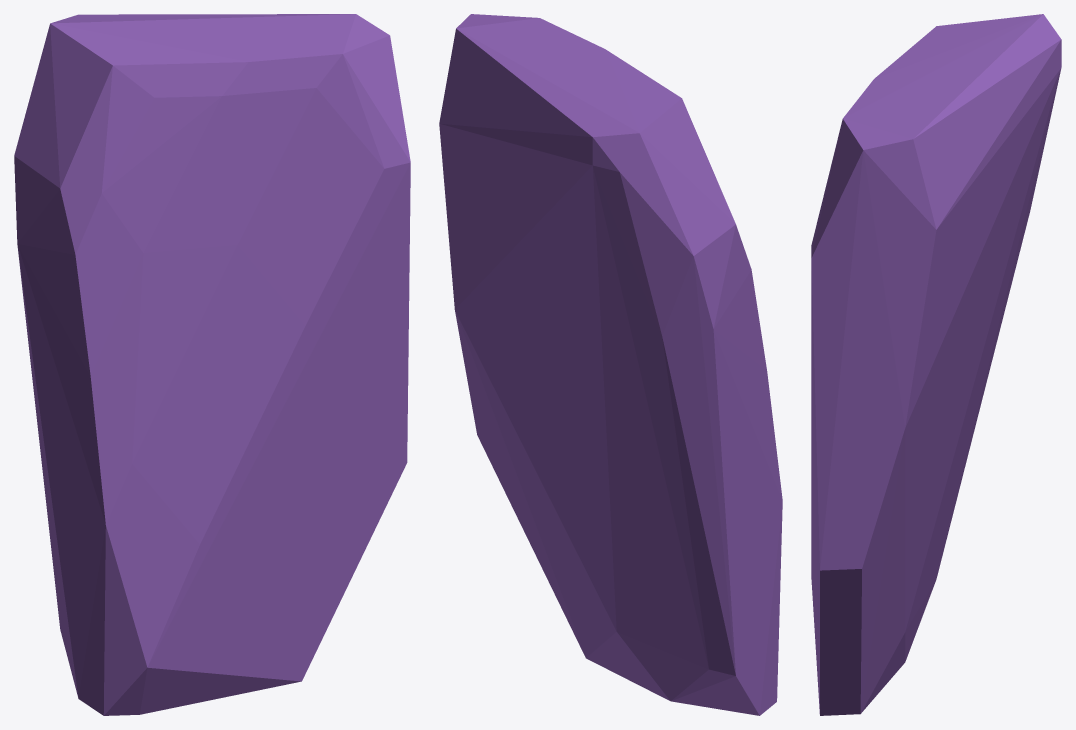
File: mouth_cup054.obj
3 renders of one model, left to right at view 1: azimuth 30°, elevation 25°; view 2: azimuth 150°, elevation 25°; view 3: azimuth 270°, elevation 25°, orthographic. The views are drawn at different scales.
Visible parts, largest first — view 1: mouth_cup054; view 2: mouth_cup054; view 3: mouth_cup054.
Part boxes in pixels (bbox=[...]): mouth_cup054: bbox=[14, 14, 410, 715]; mouth_cup054: bbox=[439, 14, 782, 715]; mouth_cup054: bbox=[811, 14, 1061, 715].
Size of the model in its own units: 0.0693 by 0.1341 by 0.0479.
